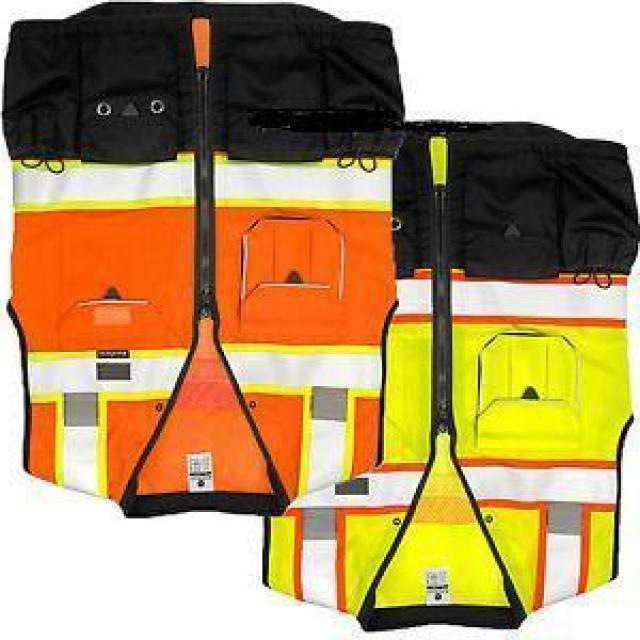jacket: (4, 9, 400, 548)
